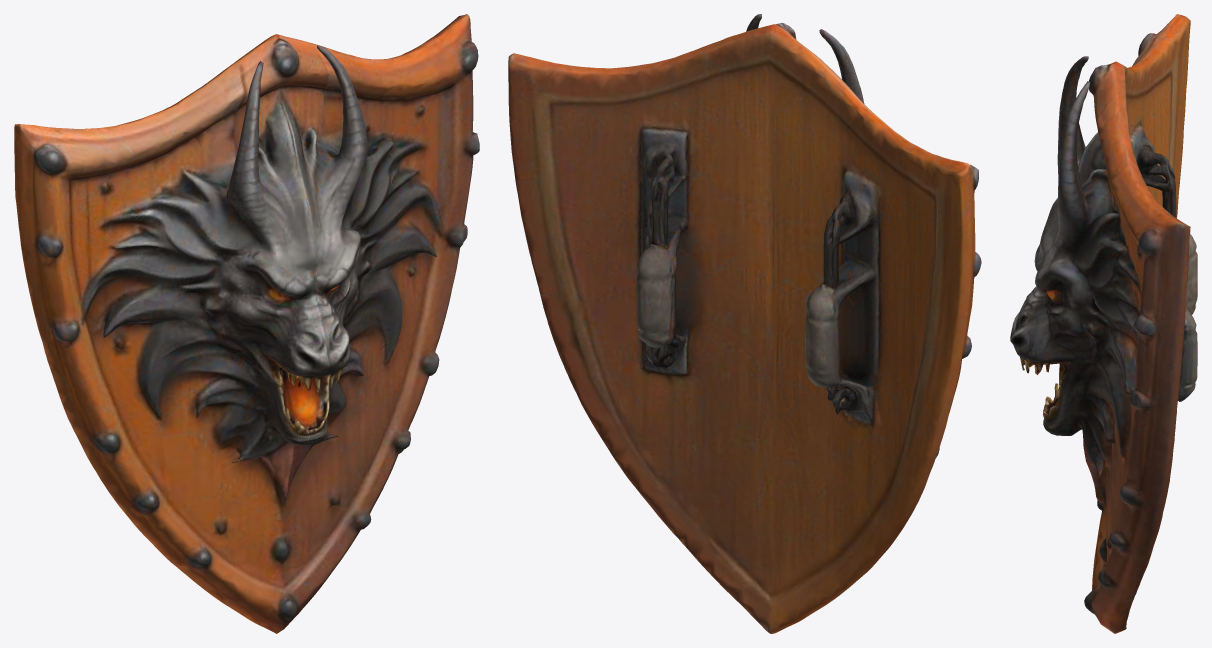
Rendered from PF_Shield3.glb.
3 views of the same model, side by side, from view 1: azimuth 30°, elevation 25°; view 2: azimuth 150°, elevation 25°; view 3: azimuth 270°, elevation 25° (orthographic). The views are drawn at different scales.
Size of the model in its own units: 1.57 by 1.99 by 0.5907.
1 material, 1 textured.
